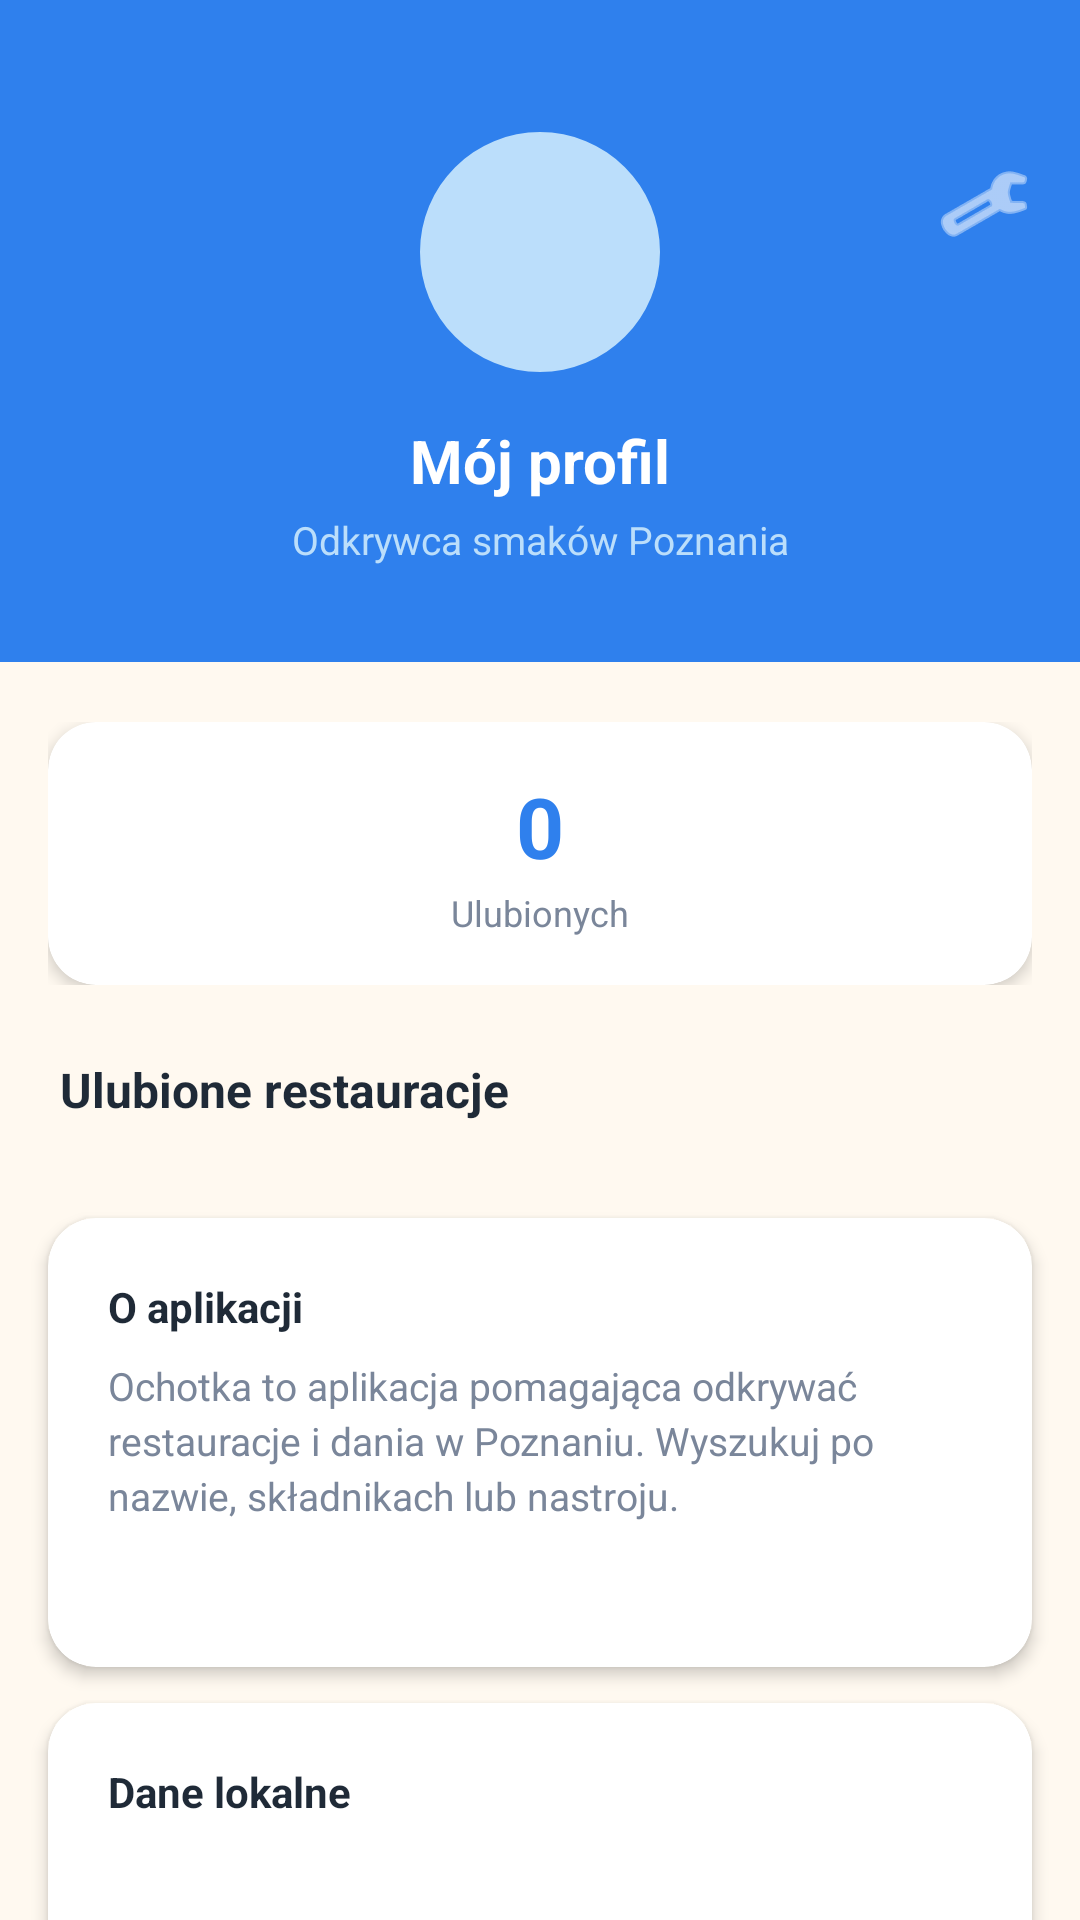

Screen size 1080x1920. Icon name, then its center in pixels as (x,y):
Ustawienia profilu: (984,204)
